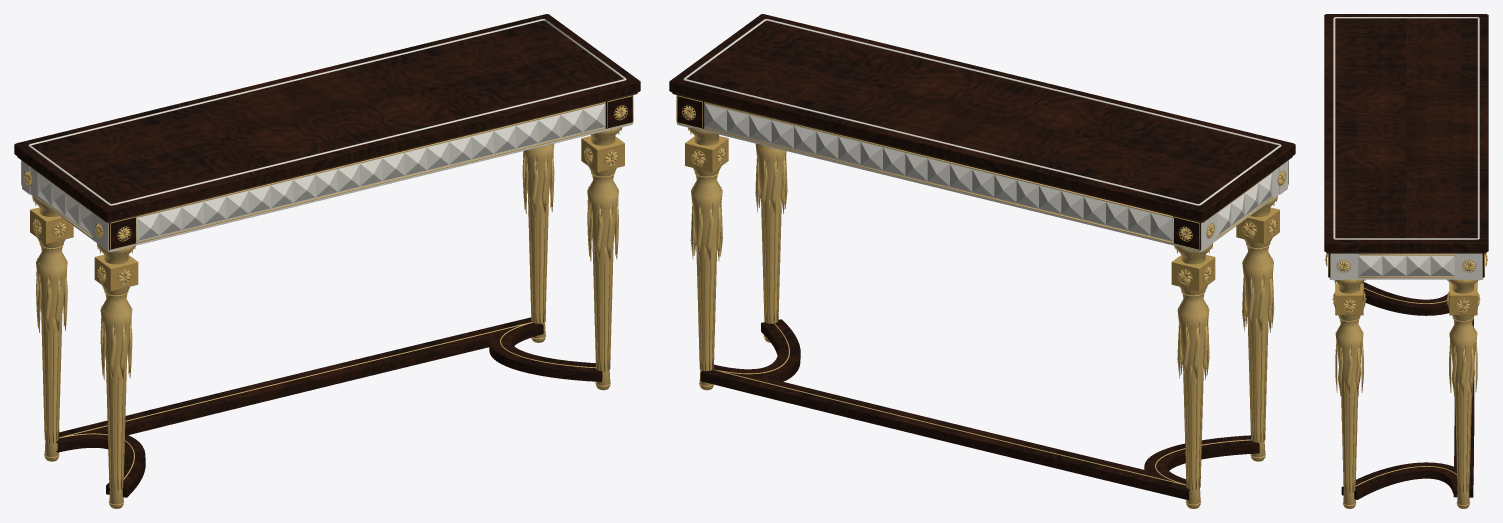
3 renders of one model, left to right at view 1: azimuth 30°, elevation 25°; view 2: azimuth 150°, elevation 25°; view 3: azimuth 270°, elevation 25°, orthographic. The views are drawn at different scales.
Parts seen in each view (by area): view 1: Belgravia carved-column console | living-8 web batch; view 2: Belgravia carved-column console | living-8 web batch; view 3: Belgravia carved-column console | living-8 web batch.
Part boxes in pixels (x1,y1,x2,y2): Belgravia carved-column console | living-8 web batch: (14, 14, 640, 508); Belgravia carved-column console | living-8 web batch: (669, 14, 1295, 508); Belgravia carved-column console | living-8 web batch: (1324, 14, 1488, 508).
Bounding box in the file's own units: 1.49 × 0.83 × 0.45.
Materials: 7 (1 with a texture image).
